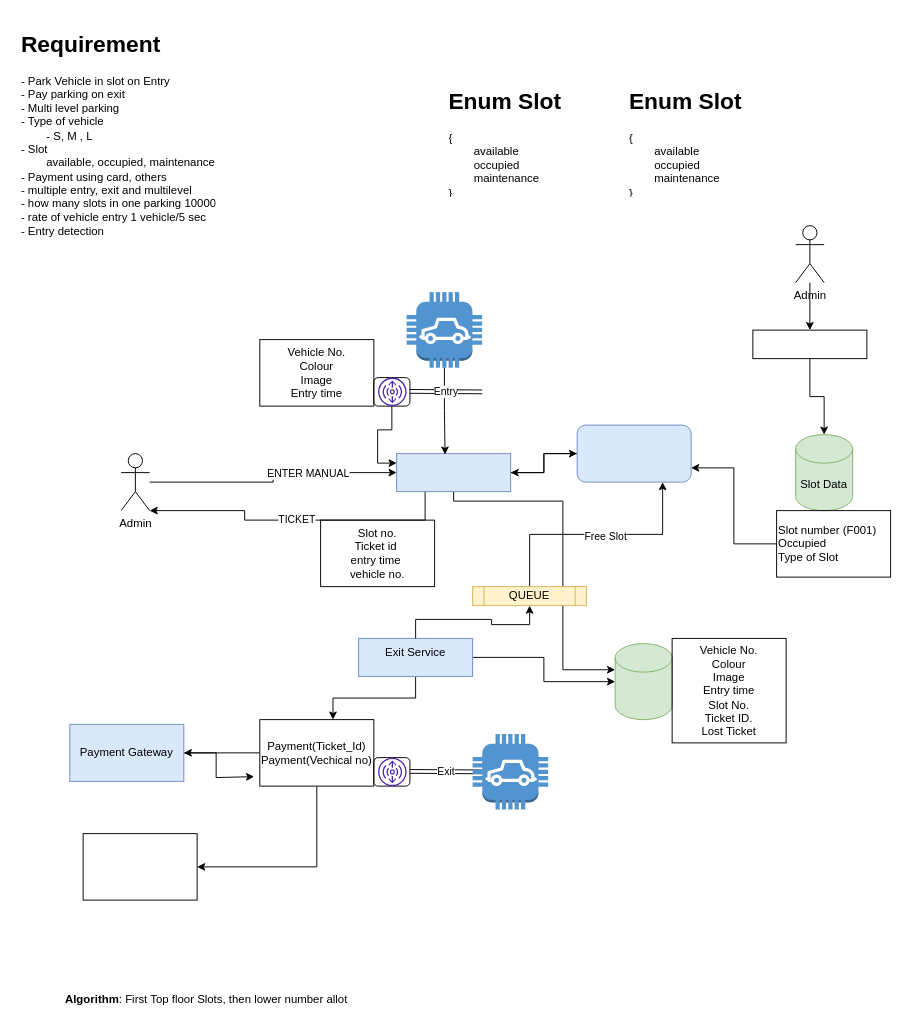
Some shapes in this 907 by 1030 pixel diagram are drawn without their labels. Each missing label, with the box of its shape:
Parking Service: (396, 453, 511, 492)
Slot Allotment Service Algorithm: (576, 424, 691, 482)
Slot no. Ticket id entry time vehicle no. Exit time: (82, 833, 197, 900)
Update Slot DB: (752, 329, 867, 359)
Vehicle Data SQL DB: (614, 643, 672, 720)
